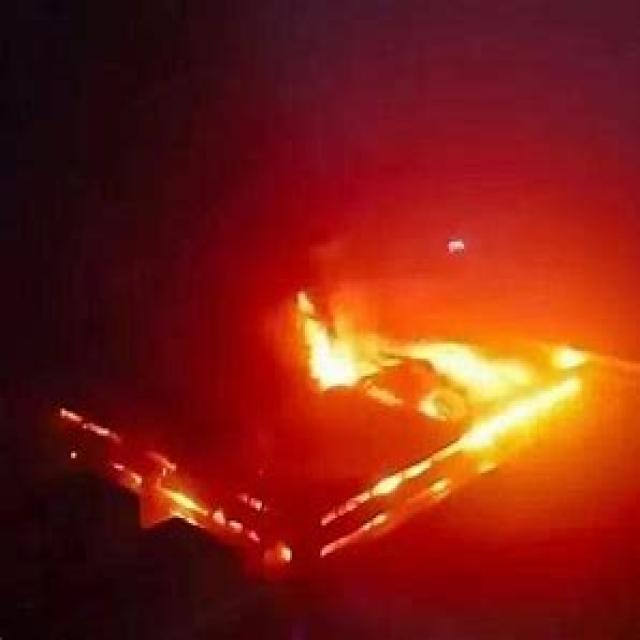fire: (295, 286, 609, 391), (416, 369, 584, 447), (132, 454, 216, 529), (353, 465, 456, 518)
